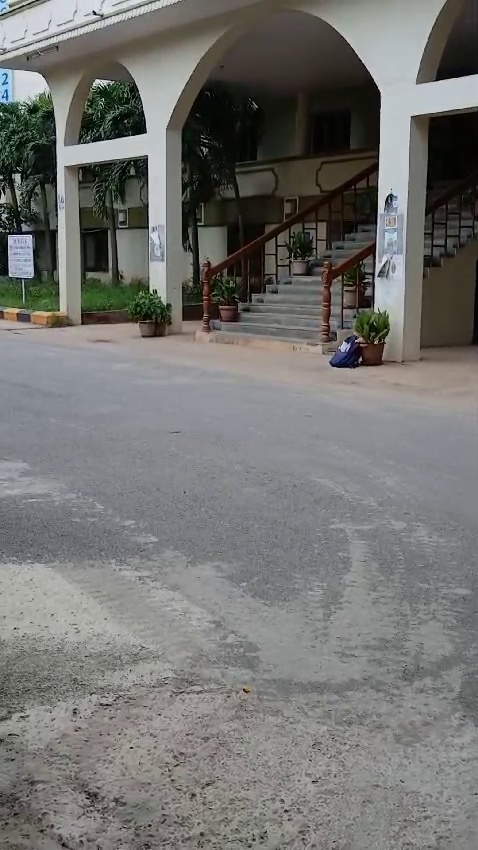bag: (323, 330, 365, 372)
